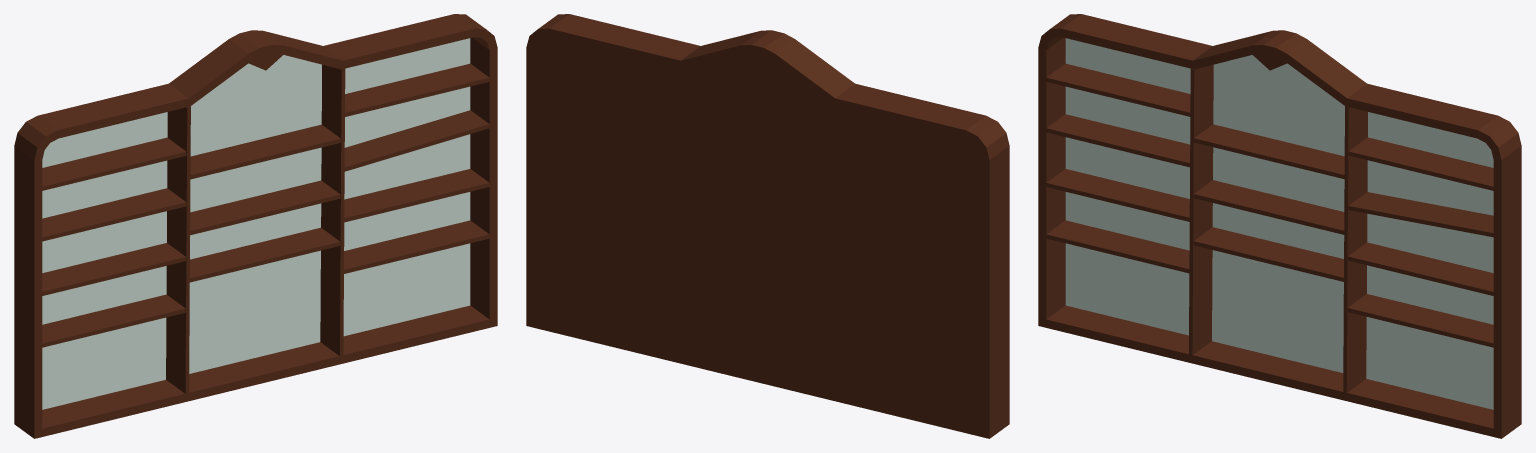
File: Vitrine_From_dusk_till_dawn.fbx
3 renders of one model, left to right at view 1: azimuth 30°, elevation 25°; view 2: azimuth 150°, elevation 25°; view 3: azimuth 330°, elevation 25°, orthographic.
Parts seen in each view (by area): view 1: Cube.006, Cube.007; view 2: Cube.006; view 3: Cube.006, Cube.007.
Part boxes in pixels (left/top/right/bottom): Cube.006: left=14, top=14, right=497, bottom=438; Cube.007: left=42, top=38, right=470, bottom=409; Cube.006: left=526, top=14, right=1009, bottom=438; Cube.006: left=1038, top=14, right=1521, bottom=438; Cube.007: left=1065, top=38, right=1493, bottom=409.
Bounding box in the file's own units: 400 × 277 × 30.46.
